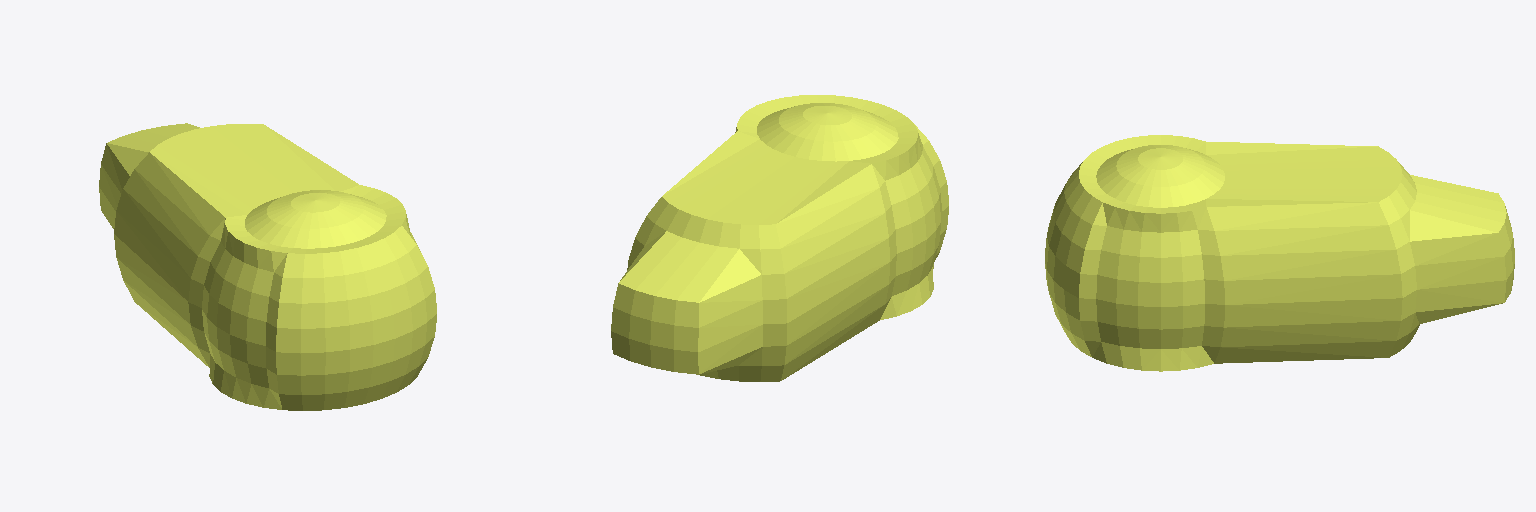
The picture shows the model from 3 angles: view 1: azimuth 30°, elevation 25°; view 2: azimuth 150°, elevation 25°; view 3: azimuth 270°, elevation 25°; orthographic projection.
Parts seen in each view (by area): view 1: 球; view 2: 球; view 3: 球.
Part boxes in pixels (x1,y1,x2,y2): 球: (99,123,436,410); 球: (611,95,948,381); 球: (1045,135,1514,371).
Bounding box in the file's own units: 1.44 × 1.38 × 2.96.
1 materials, 1 textured.